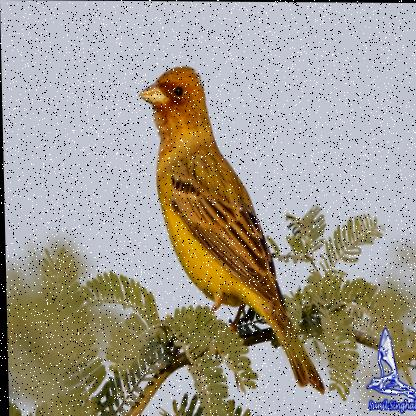Burung: (138, 66, 325, 396)
